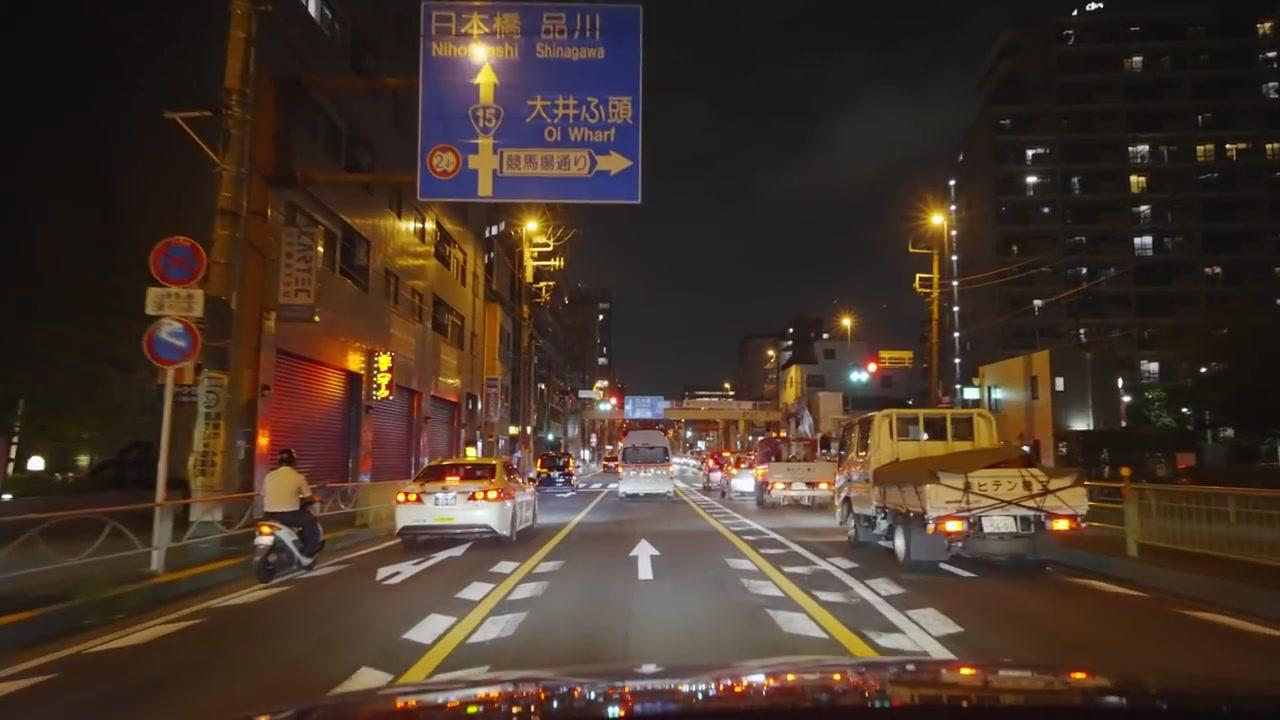bus: (618, 429, 675, 499)
car: (394, 456, 540, 547), (535, 452, 578, 488), (726, 457, 756, 500)
motorcycle: (252, 496, 327, 583)
person: (261, 448, 323, 556)
traffic light: (374, 350, 393, 400)
truck: (832, 406, 1089, 575), (753, 435, 838, 510), (618, 428, 676, 499)
